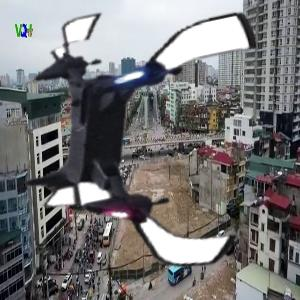drone: (6, 1, 289, 284)
